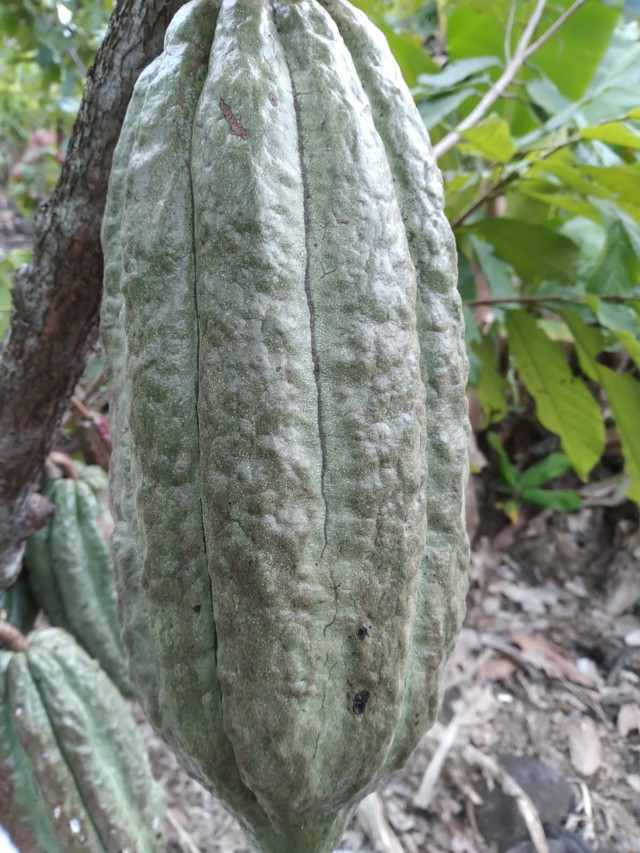Health: (89, 1, 498, 853)
